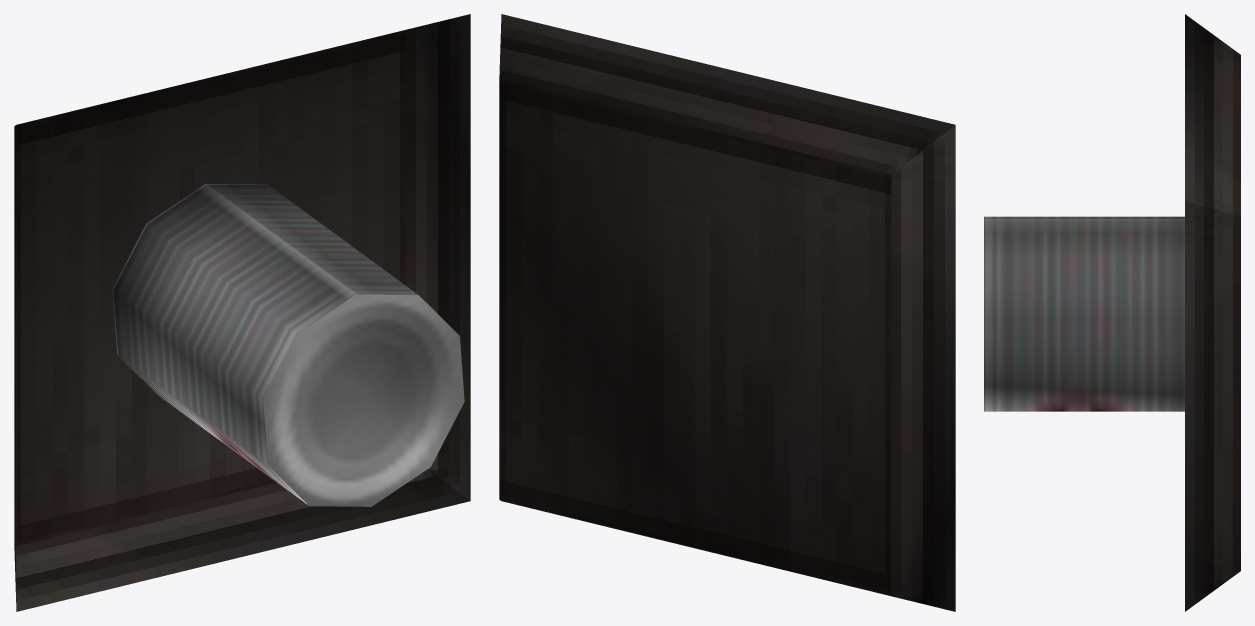
Rendered from can_of_food.glb.
The picture shows the model from 3 angles, left to right: view 1: azimuth 30°, elevation 25°; view 2: azimuth 150°, elevation 25°; view 3: azimuth 270°, elevation 25°; orthographic projection. The views are drawn at different scales.
Parts seen in each view (by area): view 1: tray, can; view 2: tray; view 3: can, tray.
Part boxes in pixels (left/top/right/bottom): tray: left=14, top=14, right=470, bottom=611; can: left=112, top=184, right=464, bottom=506; tray: left=499, top=14, right=955, bottom=611; can: left=984, top=216, right=1184, bottom=411; tray: left=1185, top=14, right=1240, bottom=611.
Bounding box in the file's own units: 3.53 × 3.62 × 2.05.
Materials: 2 (2 with a texture image).
